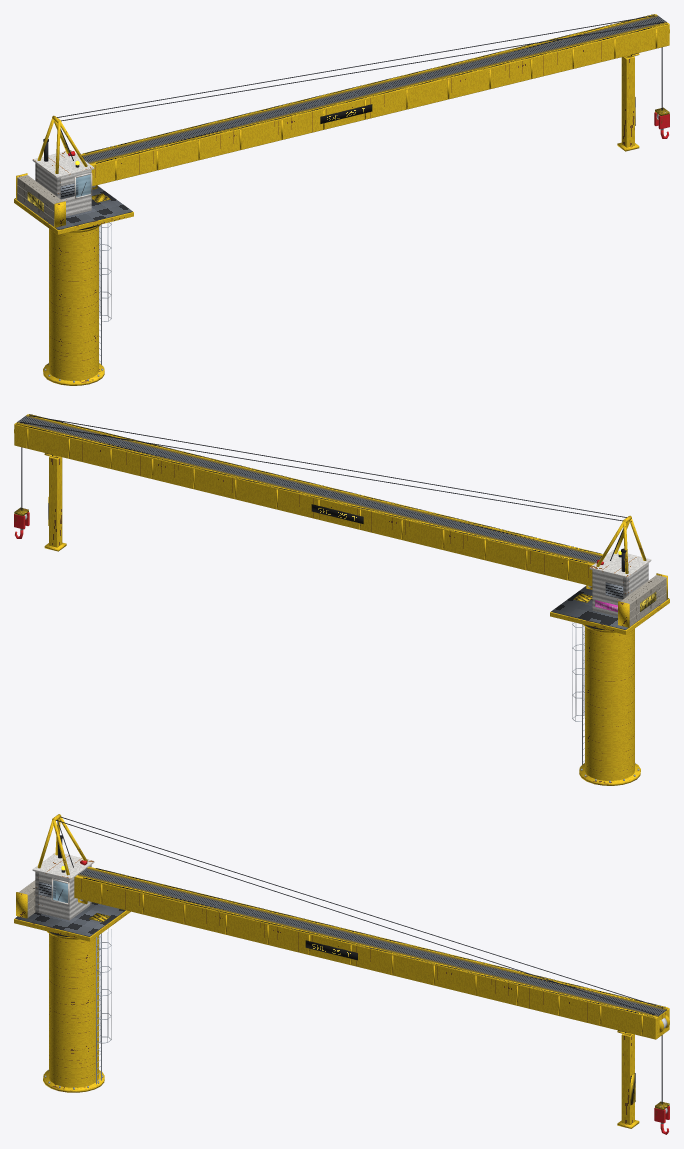
File: p_pedcrane.glb
3 renders of one model, top to bottom at view 1: azimuth 30°, elevation 25°; view 2: azimuth 150°, elevation 25°; view 3: azimuth 330°, elevation 25°, orthographic.
Visible parts, largest first — view 1: p_pedcrane_lod0; view 2: p_pedcrane_lod0; view 3: p_pedcrane_lod0.
Boxes of the visible parts, x1,y1,x2,y2 form: p_pedcrane_lod0: (14, 14, 669, 385); p_pedcrane_lod0: (14, 414, 669, 785); p_pedcrane_lod0: (14, 814, 669, 1134).
Size of what is drawn, in the model's own units: 36.57 by 14.3 by 4.4.
Materials: 4 (1 with a texture image).
